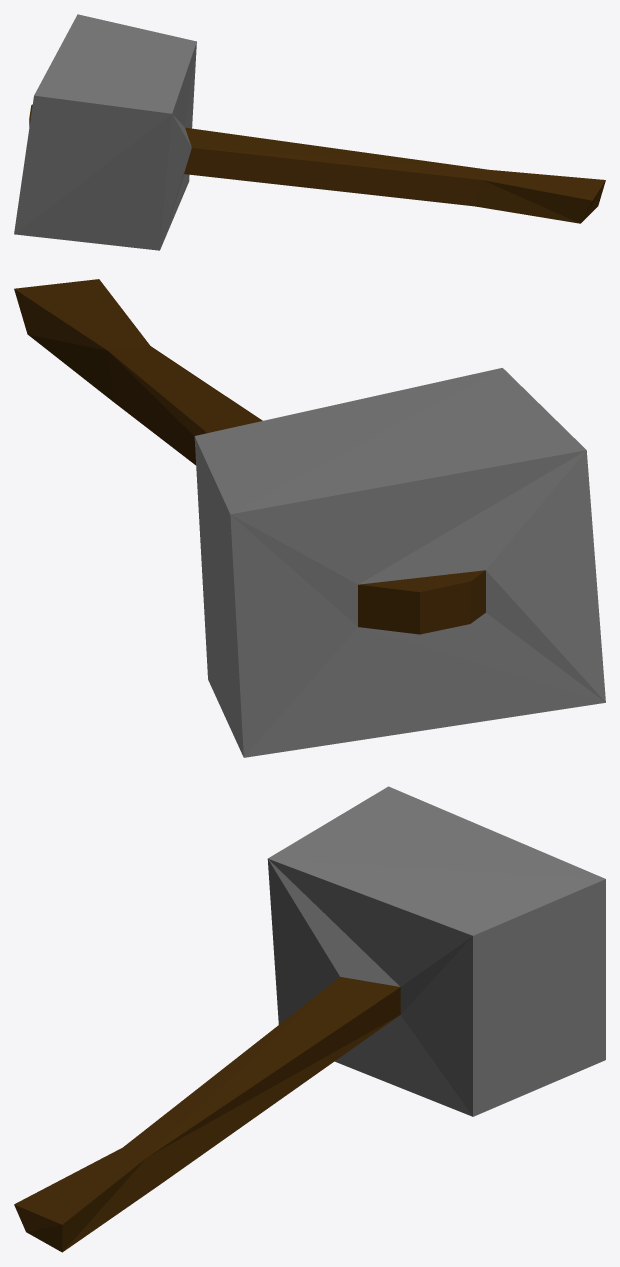
File: iron_warhammer_inventory.obj
3 views of the same model, one above another, from view 1: azimuth 30°, elevation 25°; view 2: azimuth 150°, elevation 25°; view 3: azimuth 270°, elevation 25° (orthographic). The views are drawn at different scales.
Parts seen in each view (by area): view 1: runescapemodel; view 2: runescapemodel; view 3: runescapemodel.
Part boxes in pixels (box(x1,y1,x2,y2)): runescapemodel: box(14, 14, 605, 250); runescapemodel: box(14, 279, 605, 757); runescapemodel: box(14, 786, 605, 1252).
Bounding box in the file's own units: 60 × 19 × 49.
